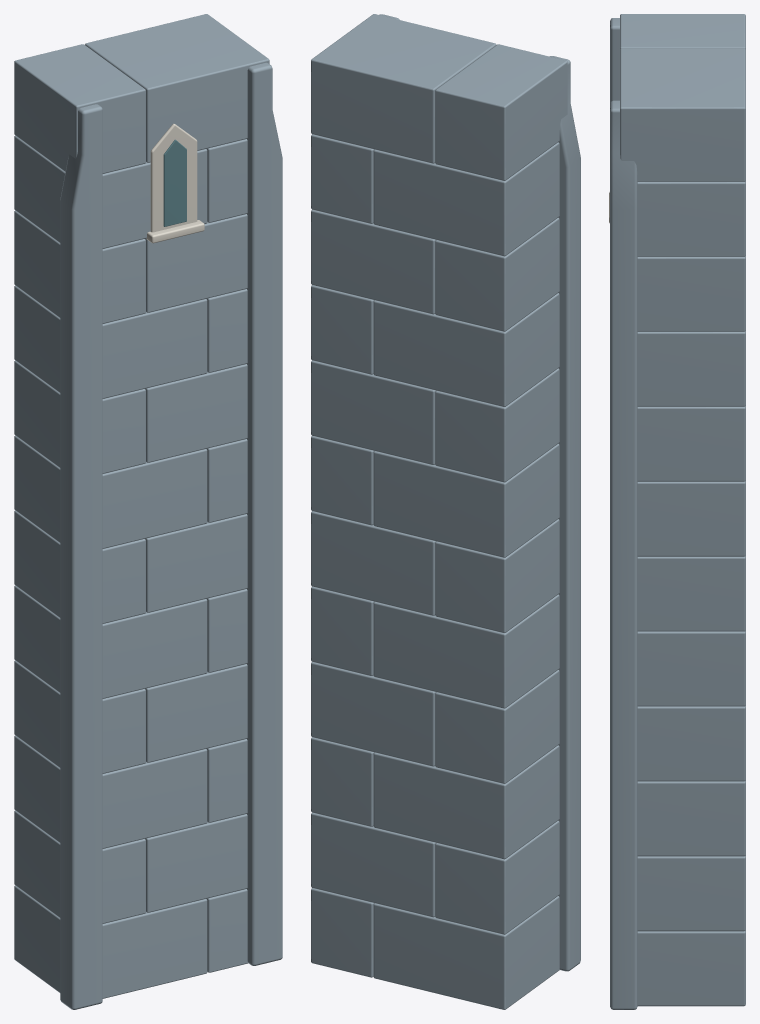
Rendered from TowerFoundation.fbx.
3 views of the same model, side by side, from view 1: azimuth 30°, elevation 25°; view 2: azimuth 150°, elevation 25°; view 3: azimuth 270°, elevation 25° (orthographic).
Parts seen in each view (by area): view 1: TowerFoundation_Keep_Ashlar, TowerFoundation_Keep_Limestone, TowerFoundation_Stone_DeepTeal; view 2: TowerFoundation_Keep_Ashlar; view 3: TowerFoundation_Keep_Ashlar.
Part boxes in pixels (x1,y1,x2,y2): TowerFoundation_Keep_Ashlar: (14, 14, 282, 1009); TowerFoundation_Keep_Limestone: (146, 123, 204, 243); TowerFoundation_Stone_DeepTeal: (163, 139, 186, 226); TowerFoundation_Keep_Ashlar: (311, 14, 580, 1009); TowerFoundation_Keep_Ashlar: (610, 14, 745, 1009).
Bounding box in the file's own units: 248 × 1008 × 139.
